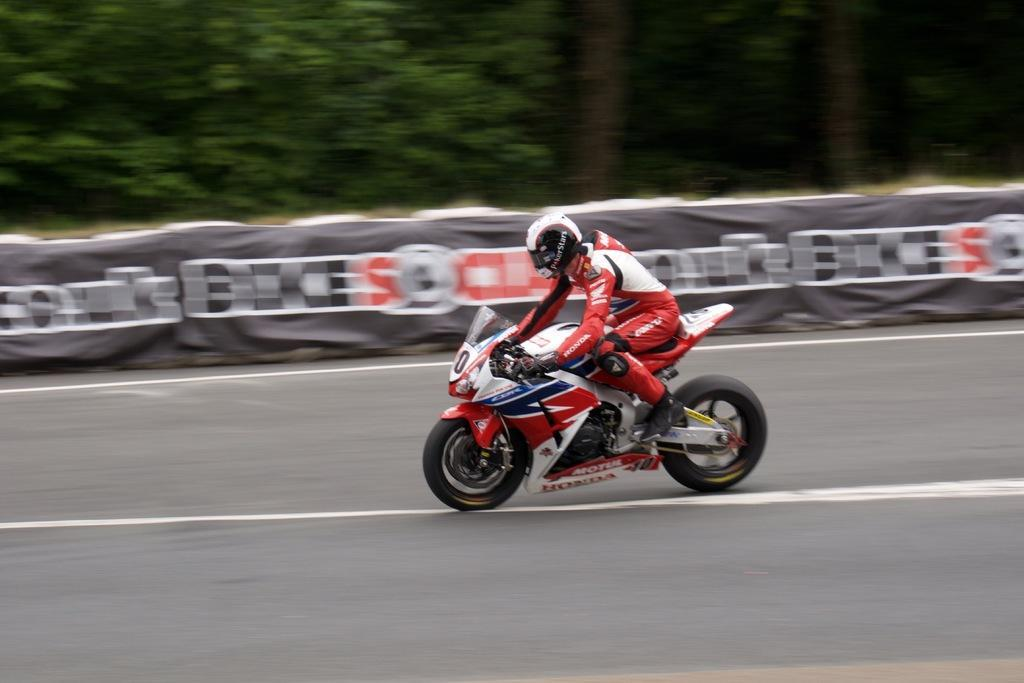helmet: (524, 211, 585, 281)
